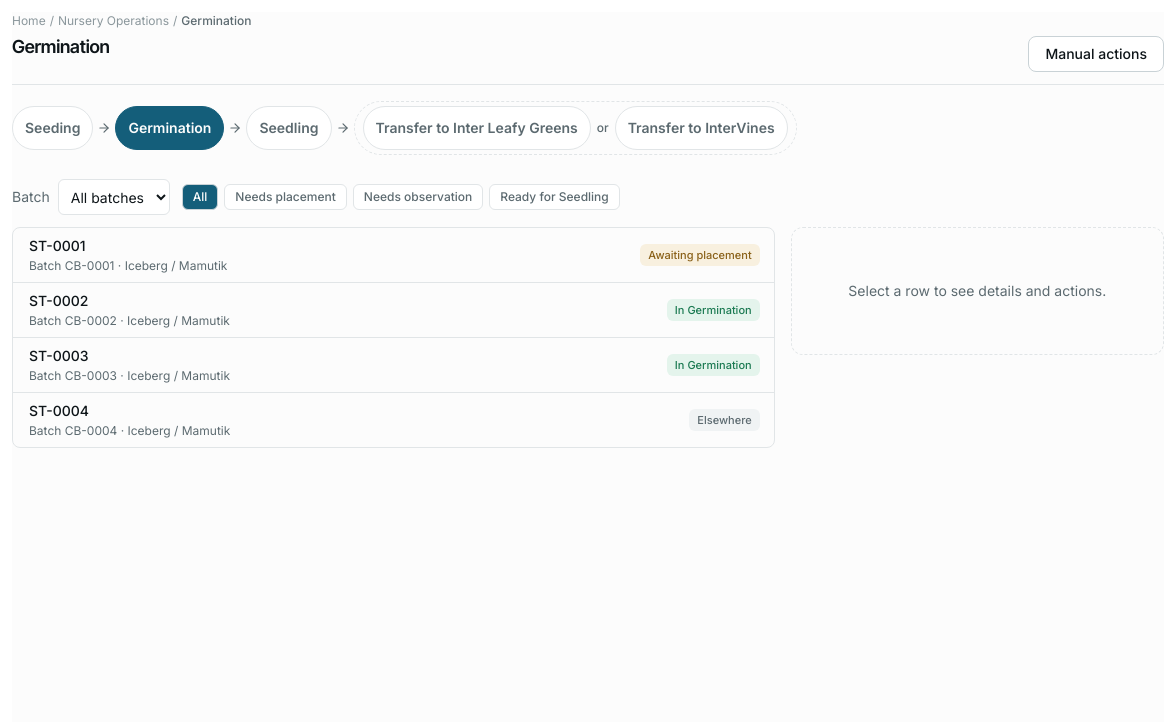
Test case: GerminationPage worklist › clicking a row's Record outcome opens with that exact assignment frozen -- no reselection
Expected: the text "ST-0001" is shown, [29,236,86,256]
Click the button "ST-0002 Batch CB-0002 · Iceberg / Mamutik". click: x=59, y=300
box: [29,291,655,329]
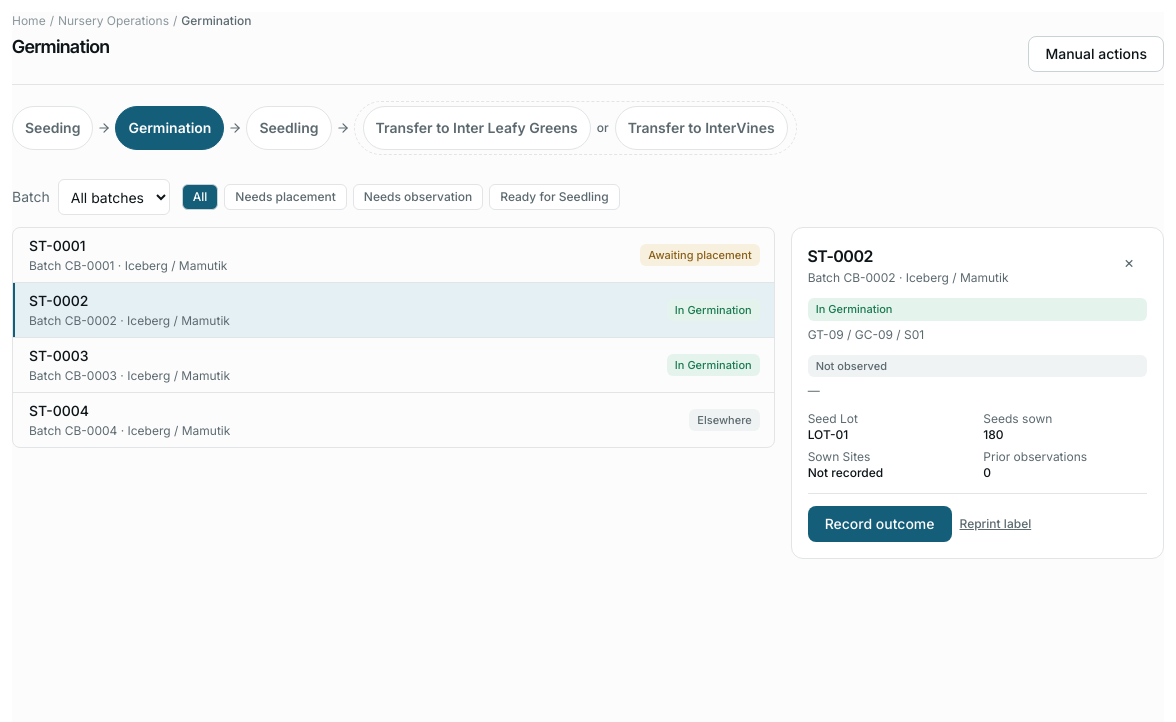
Now the button "Record outcome" is shown
Click the button "Record outcome". click: x=880, y=524
box: [808,506,952,542]
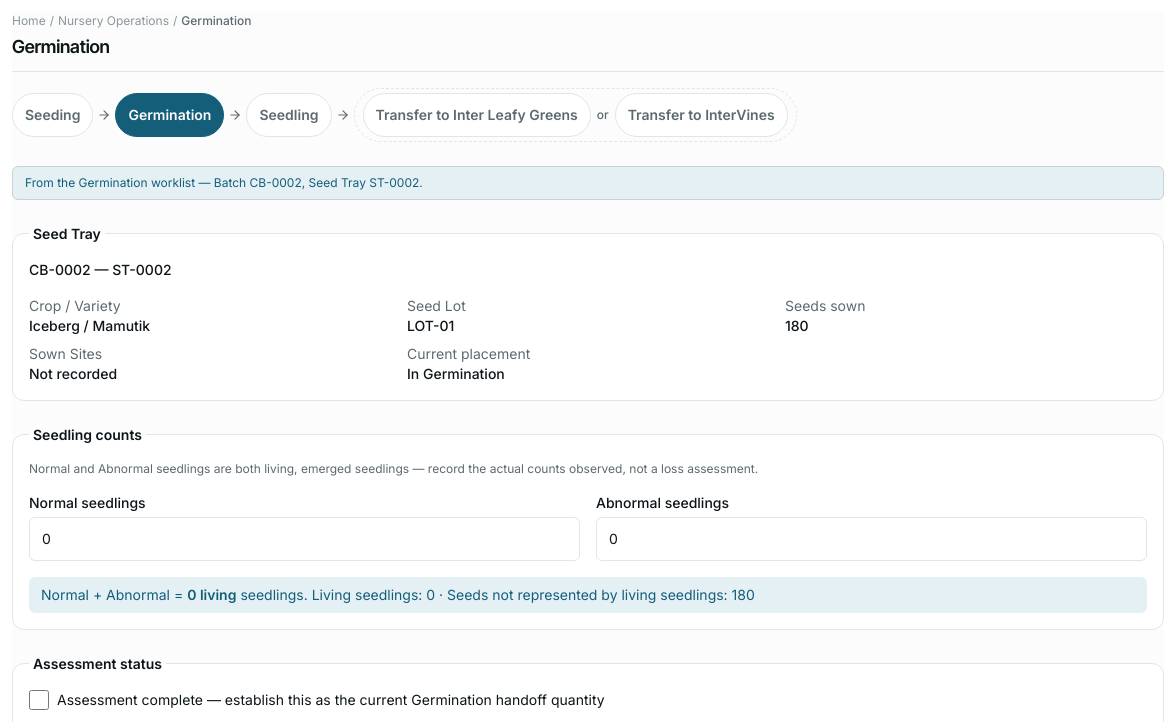
Now the text "From the Germination worklist" is shown, box [25,174,250,190]
Now the text "CB-0002 — ST-0002" is shown, box [29,260,172,278]
